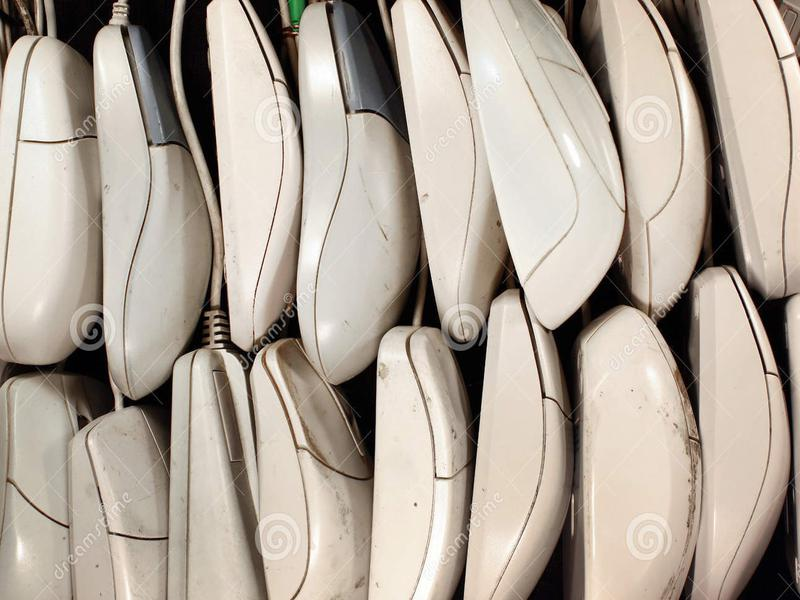mouse: (457, 1, 631, 331), (83, 24, 227, 408), (295, 1, 420, 386), (574, 304, 705, 597), (239, 325, 376, 600), (690, 263, 800, 600), (595, 1, 711, 320), (3, 28, 106, 377), (201, 1, 305, 346), (460, 291, 572, 600), (361, 325, 469, 600)
